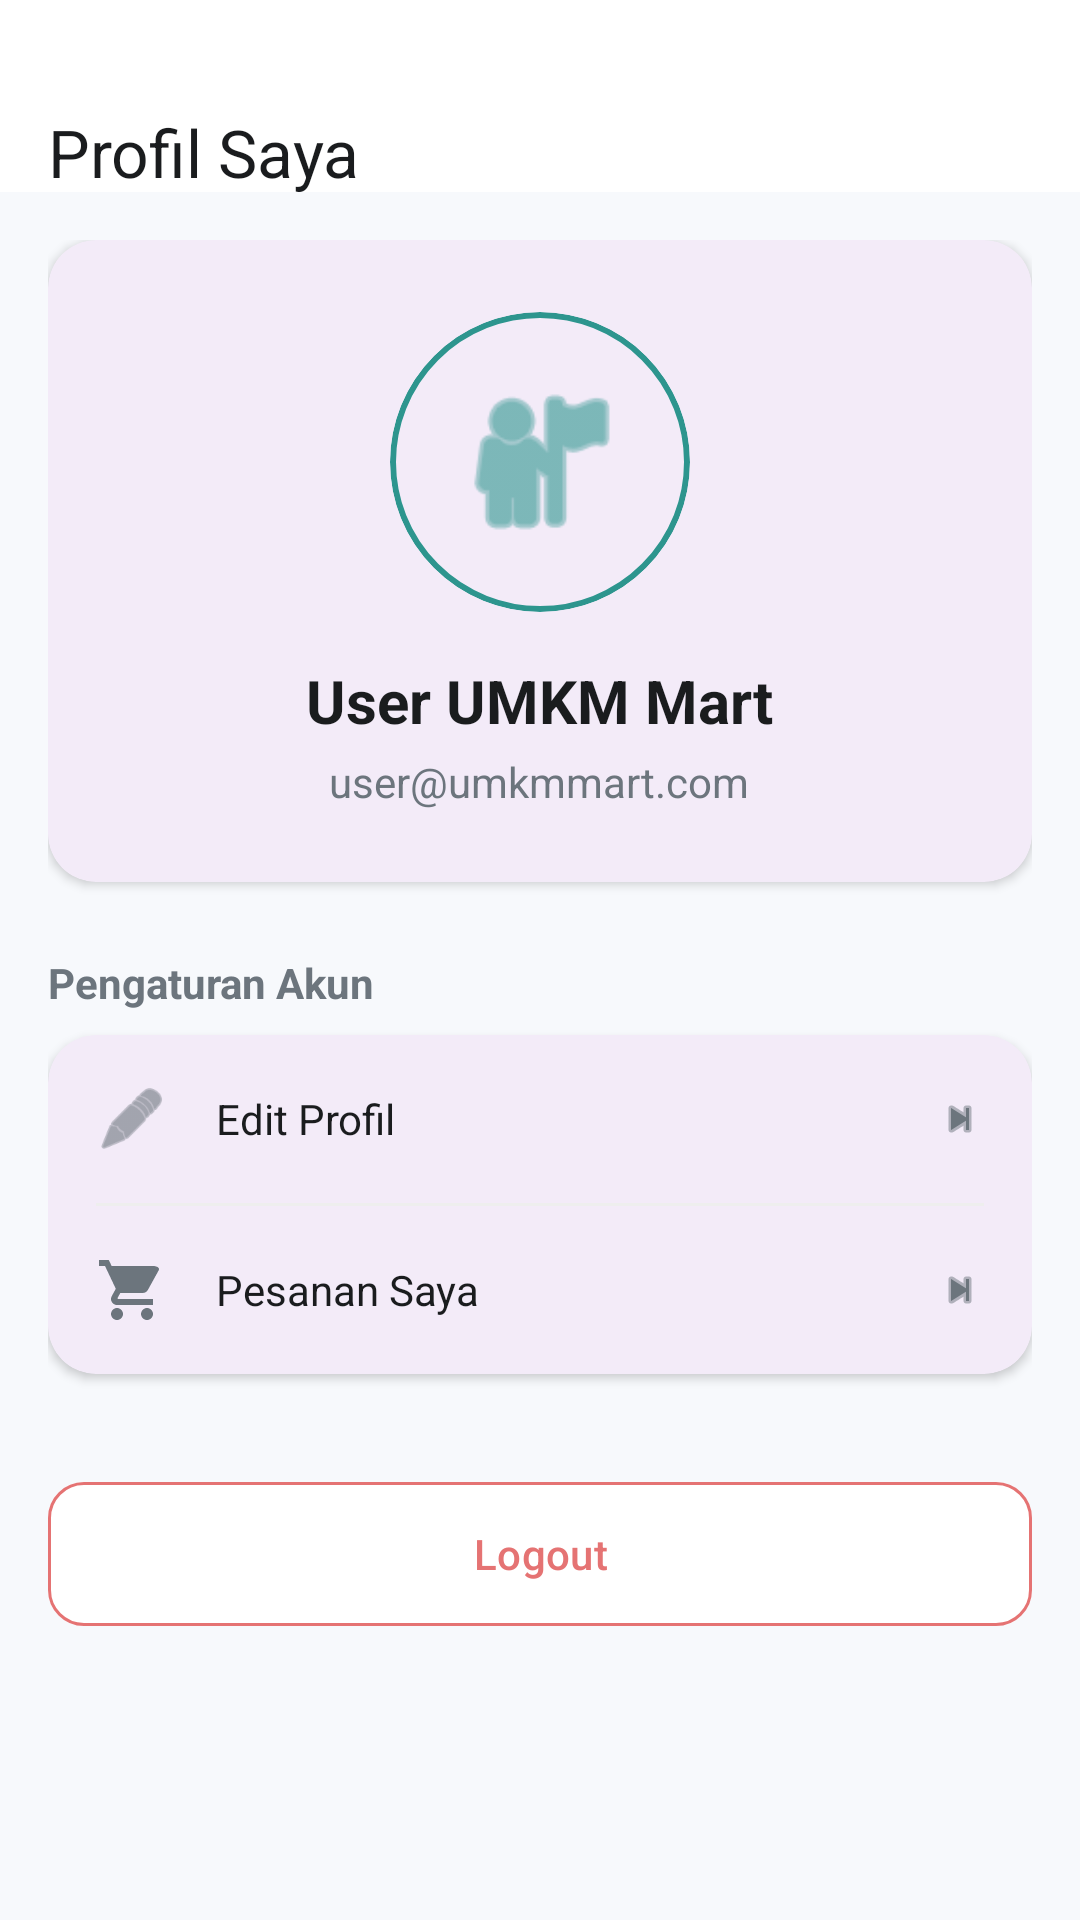

Icons on this 1080w x 1920h Android screen, each with its box as {"left": x1, "top": y1, "right": x2, "bottom": y2}:
cart: {"left": 99, "top": 1260, "right": 159, "bottom": 1320}
myplaces: {"left": 390, "top": 312, "right": 690, "bottom": 612}
next: {"left": 948, "top": 1105, "right": 972, "bottom": 1133}, {"left": 948, "top": 1276, "right": 972, "bottom": 1304}
